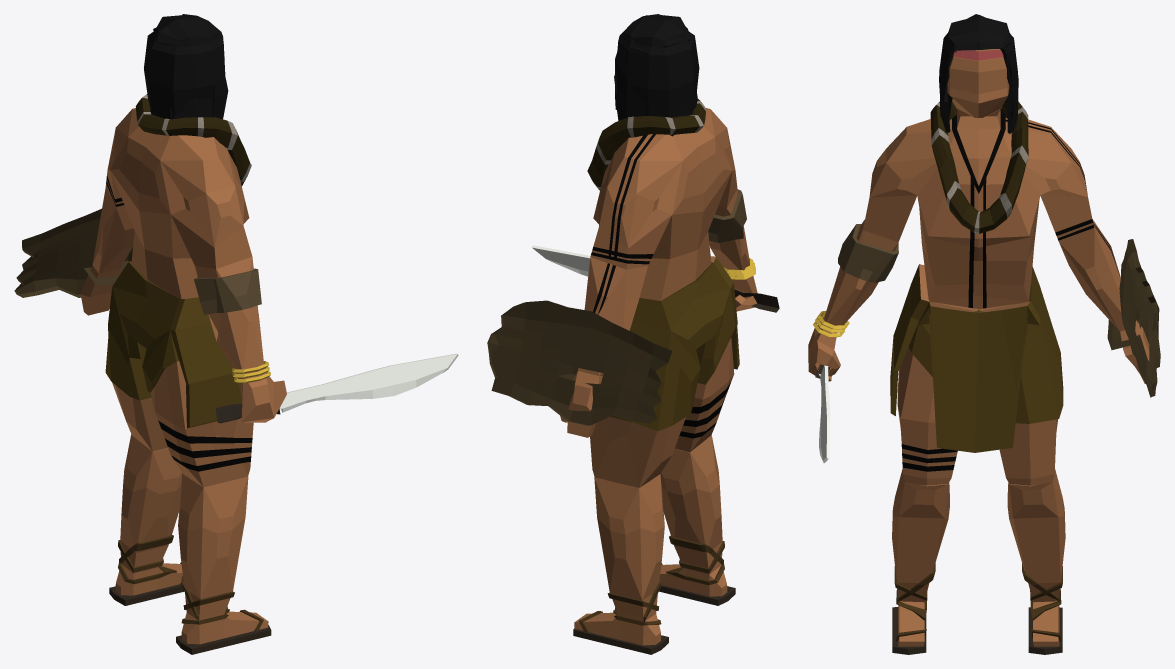
Rendered from Lapu_Skin.fbx.
The picture shows the model from 3 angles, left to right: view 1: azimuth 30°, elevation 25°; view 2: azimuth 150°, elevation 25°; view 3: azimuth 270°, elevation 25°; orthographic projection. The views are drawn at different scales.
Parts seen in each view (by area): view 1: Lapu, Bahag, hair, Plane, Itak, Neclace, Band, Foot, sandals.001, sandals; view 2: Lapu, Plane, Bahag, hair, Neclace, Foot, Itak, Band, sandals, sandals.001; view 3: Lapu, Bahag, Neclace, Plane, hair, Band, Foot, Itak, sandals, sandals.001.
Boxes of the visible parts, x1=… form: Lapu: x1=80, y1=56, x2=286, y2=644; Bahag: x1=105, y1=261, x2=242, y2=428; hair: x1=144, y1=14, x2=228, y2=135; Plane: x1=14, y1=208, x2=132, y2=297; Itak: x1=215, y1=353, x2=458, y2=423; Neclace: x1=135, y1=94, x2=251, y2=186; Band: x1=194, y1=268, x2=261, y2=314; Foot: x1=118, y1=534, x2=263, y2=631; sandals.001: x1=176, y1=625, x2=271, y2=654; sandals: x1=109, y1=584, x2=184, y2=605; Lapu: x1=560, y1=108, x2=757, y2=645; Plane: x1=487, y1=300, x2=672, y2=425; Bahag: x1=610, y1=256, x2=739, y2=430; hair: x1=614, y1=14, x2=699, y2=120; Neclace: x1=587, y1=99, x2=706, y2=190; Foot: x1=579, y1=535, x2=724, y2=632; Itak: x1=532, y1=245, x2=779, y2=312; Band: x1=708, y1=189, x2=746, y2=242; sandals: x1=573, y1=628, x2=668, y2=654; sandals.001: x1=659, y1=585, x2=735, y2=605; Lapu: x1=808, y1=49, x2=1149, y2=646; Bahag: x1=890, y1=264, x2=1063, y2=452; Neclace: x1=930, y1=101, x2=1028, y2=233; Plane: x1=1107, y1=239, x2=1160, y2=397; hair: x1=939, y1=14, x2=1018, y2=134; Band: x1=838, y1=224, x2=898, y2=282; Foot: x1=894, y1=563, x2=1062, y2=641; Itak: x1=815, y1=364, x2=830, y2=462; sandals: x1=1028, y1=607, x2=1062, y2=654; sandals.001: x1=892, y1=607, x2=926, y2=654.
Size of the model in its own units: 370 by 735 by 385.
